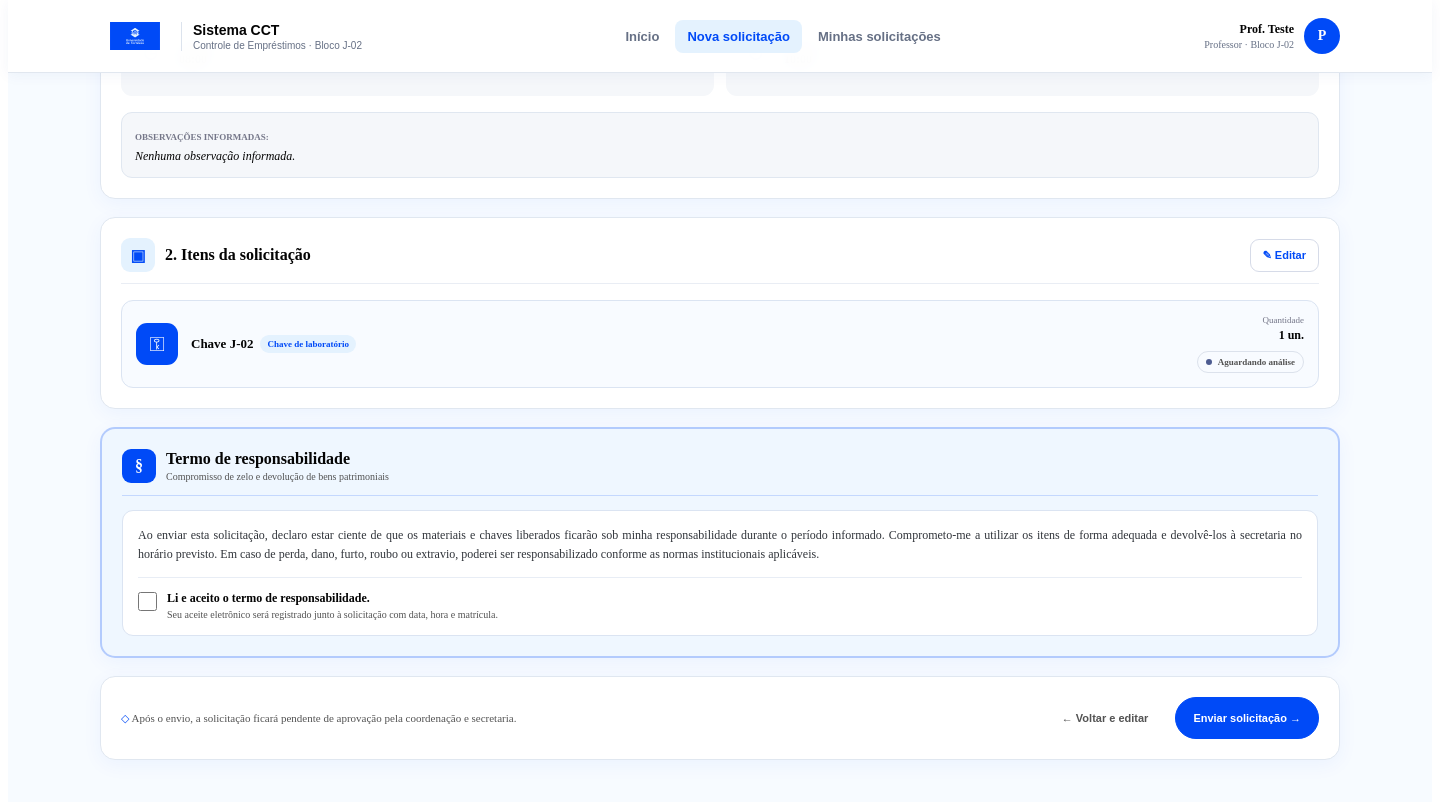
Test: fluxos principais do frontend › exige o aceite do termo antes de confirmar uma solicitação
This screenshot has width=1440, height=810.
(page scrolled)
Step 1. Click the button "Enviar solicitação →" → (1247, 718), box left=1175, top=697, right=1319, bottom=739
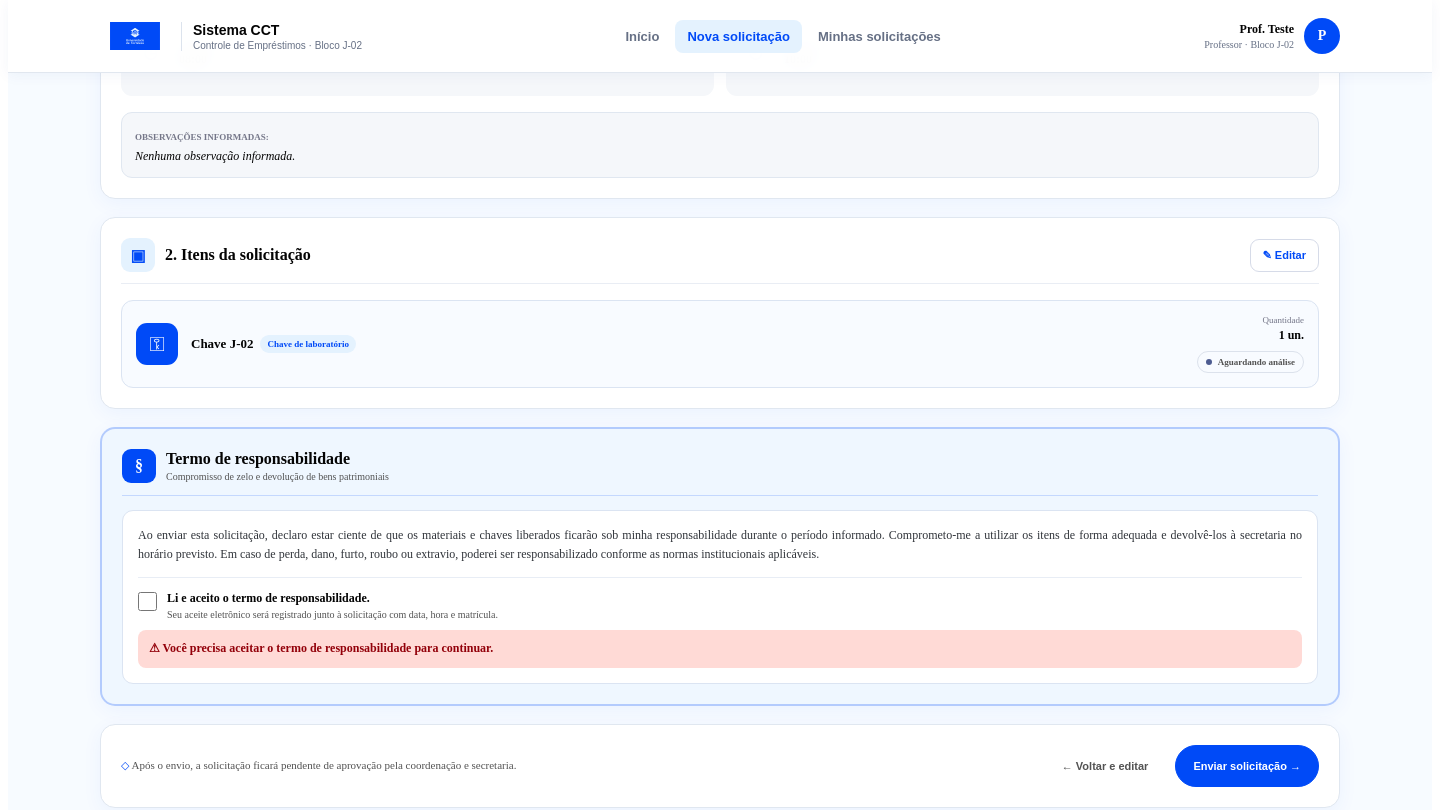
Expected: the message shows "aceitar o termo", left=162, top=641, right=493, bottom=655
